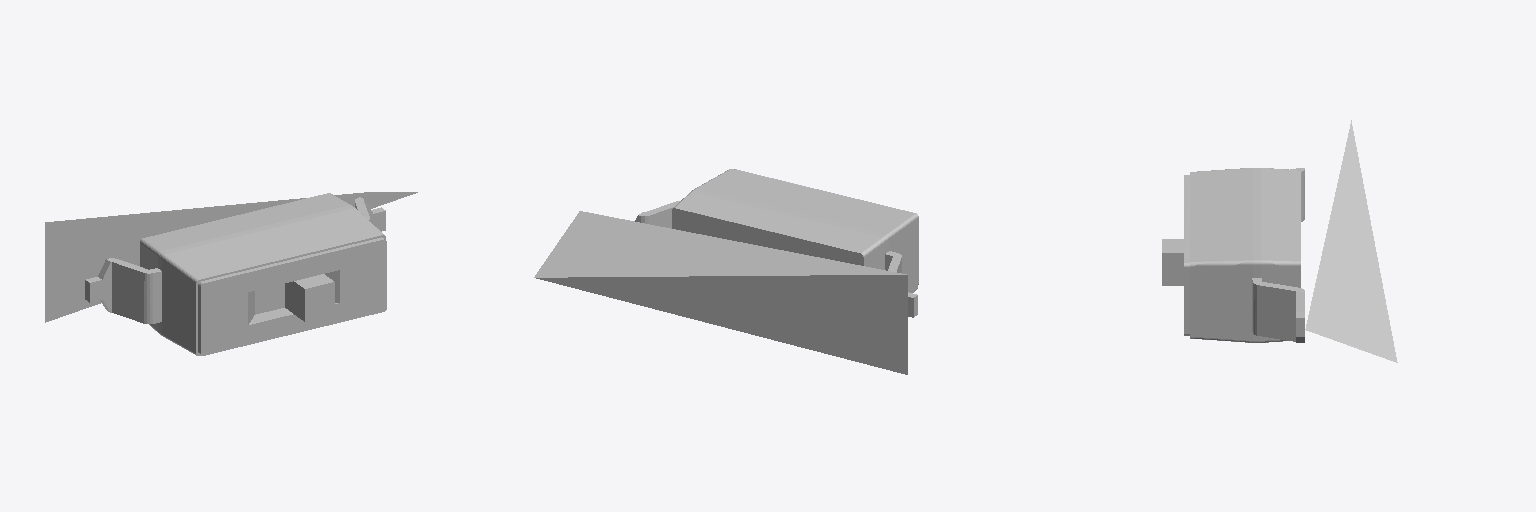
Rendered from OBJ_SW-SMD_2P-L6.2-W2.5-LS9.4.obj.
3 views of the same model, side by side, from view 1: azimuth 30°, elevation 25°; view 2: azimuth 150°, elevation 25°; view 3: azimuth 270°, elevation 25° (orthographic).
Size of the model in its own units: 43.84 by 12 by 25.45.